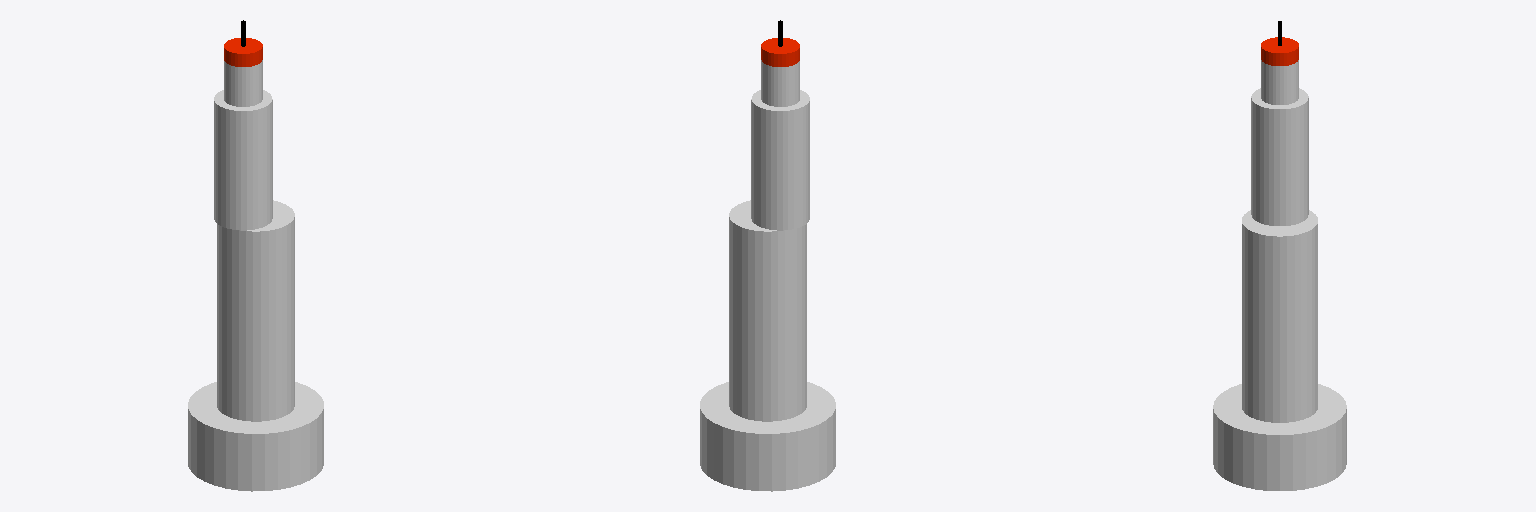
The robot description file, URDF, robot "motoman":
<?xml version="1.0" ?>
<robot name="motoman">

  <material name="red">
    <color rgba="0.8 0 0 1"/>
  </material>

  <material name="orange">
    <color rgba="1.0 0.3 0 1"/>
  </material>

  <material name="yellow">
    <color rgba="0.8 0.8 0 1"/>
  </material>

  <material name="green">
    <color rgba="0 0.8 0 1"/>
  </material>

  <material name="sky">
    <color rgba="0 0.8 0.8 1"/>
  </material>

  <material name="blue">
    <color rgba="0 0 0.8 1"/>
  </material>

  <material name="magenta">
    <color rgba="0.8 0 0.8 1"/>
  </material>

  <material name="white">
    <color rgba="1 1 1 1"/>
  </material>

  <material name="gray">
    <color rgba="0.9 0.9 0.9 1"/>
  </material>

  <material name="dark">
    <color rgba="0.3 0.3 0.3 1"/>
  </material>



  <link name="base_link">
    <visual>
      <geometry>
        <cylinder length="0.13" radius="0.14"/>
      </geometry>
      <origin xyz="0 0 0.065"/>
      <material name="gray"/>
    </visual>
    <collision>
      <geometry>
        <cylinder length="0.13" radius="0.14"/>
      </geometry>
      <origin xyz="0 0 0.065"/>
    </collision>
    <inertial>
      <mass value="19"/>
      <inertia ixx="0.112" ixy="0.0" ixz="0.0" iyy="0.112" iyz="0.0" izz="0.186"/>
    </inertial>
  </link>

  <link name="link_s">
    <visual>
      <geometry>
        <cylinder length="0.16" radius="0.08"/>
      </geometry>
      <origin xyz="0 0 0.08"/>
      <material name="gray"/>
    </visual>
    <collision>
      <geometry>
        <cylinder length="0.16" radius="0.08"/>
      </geometry>
      <origin xyz="0 0 0.08"/>
    </collision>
    <inertial>
      <mass value="2"/>
      <inertia ixx="0.00747" ixy="0.0" ixz="0.0" iyy="0.00747" iyz="0.0" izz="0.0064"/>
    </inertial>
  </link>

  <link name="link_l">
    <visual>
      <geometry>
        <cylinder length="0.27" radius="0.08"/>
      </geometry>
      <origin xyz="0 0 0.135"/>
      <material name="gray"/>
    </visual>
    <collision>
      <geometry>
        <cylinder length="0.27" radius="0.08"/>
      </geometry>
      <origin xyz="0 0 0.135"/>
    </collision>
    <inertial>
      <mass value="2"/>
      <inertia ixx="0.00154" ixy="0.0" ixz="0.0" iyy="0.00154" iyz="0.0" izz="0.0064"/>
    </inertial>
  </link>

  <link name="link_u">
    <visual>
      <geometry>
        <cylinder length="0.04" radius="0.06"/>
      </geometry>
      <origin xyz="-0.03 0 0.02"/>
      <material name="gray"/>
    </visual>
    <collision>
      <geometry>
        <cylinder length="0.04" radius="0.06"/>
      </geometry>
      <origin xyz="-0.03 0 0.02"/>
    </collision>
    <inertial>
      <mass value="2"/>
      <inertia ixx="0.00207" ixy="0.0" ixz="0.0" iyy="0.00207" iyz="0.0" izz="0.0036"/>
    </inertial>
  </link>

  <link name="link_r">
    <visual>
      <geometry>
        <cylinder length="0.23" radius="0.06"/>
      </geometry>
      <origin xyz="0 0 0.115"/>
      <material name="gray"/>
    </visual>
    <collision>
      <geometry>
        <cylinder length="0.23" radius="0.06"/>
      </geometry>
      <origin xyz="0 0 0.115"/>
    </collision>
    <inertial>
      <mass value="1"/>
      <inertia ixx="0.00531" ixy="0.0" ixz="0.0" iyy="0.00531" iyz="0.0" izz="0.0018"/>
    </inertial>
  </link>

  <link name="link_b">
    <visual>
      <geometry>
        <cylinder length="0.01" radius="0.04"/>
      </geometry>
      <origin xyz="0 0 0.005"/>
      <material name="gray"/>
    </visual>
    <collision>
      <geometry>
        <cylinder length="0.01" radius="0.04"/>
      </geometry>
      <origin xyz="0 0 0.005"/>
    </collision>
    <inertial>
      <mass value="1"/>
      <inertia ixx="0.000408" ixy="0.0" ixz="0.0" iyy="0.000408" iyz="0.0" izz="0.0008"/>
    </inertial>
  </link>

  <link name="link_t">
    <visual>
      <geometry>
        <cylinder length="0.08" radius="0.04"/>
      </geometry>
      <origin xyz="0 0 0.04"/>
      <material name="gray"/>
    </visual>
    <collision>
      <geometry>
        <cylinder length="0.08" radius="0.04"/>
      </geometry>
      <origin xyz="0 0 0.04"/>
    </collision>
    <inertial>
      <mass value="0.5"/>
      <inertia ixx="0.000467" ixy="0.0" ixz="0.0" iyy="0.000467" iyz="0.0" izz="0.0004"/>
    </inertial>
  </link>

  <joint name="joint_s" type="continuous">
    <parent link="base_link"/>
    <child link="link_s"/>
    <origin xyz="0 0 0.13"/>
    <axis xyz="0 0 1" />
    <dynamics damping="10.0" friction="0.0"/>
  </joint>

  <joint name="joint_l" type="continuous">
    <parent link="link_s"/>
    <child link="link_l"/>
    <origin xyz="0 0 0.16"/>
    <axis xyz="0 1 0" />
    <dynamics damping="10.0" friction="0.0"/>
  </joint>

  <joint name="joint_u" type="continuous">
    <parent link="link_l"/>
    <child link="link_u"/>
    <origin xyz="0 0 0.27"/>
    <axis xyz="0 1 0" />
    <dynamics damping="10.0" friction="0.0"/>
  </joint>

  <joint name="joint_r" type="continuous">
    <parent link="link_u"/>
    <child link="link_r"/>
    <origin xyz="-0.03 0 0.04"/>
    <axis xyz="0 0 1" />
    <dynamics damping="10.0" friction="0.0"/>
  </joint>

  <joint name="joint_b" type="continuous">
    <parent link="link_r"/>
    <child link="link_b"/>
    <origin xyz="0 0 0.23"/>
    <axis xyz="0 1 0" />
    <dynamics damping="10.0" friction="0.0"/>
  </joint>

  <joint name="joint_t" type="continuous">
    <parent link="link_b"/>
    <child link="link_t"/>
    <origin xyz="0 0 0.01"/>
    <axis xyz="0 0 1" />
    <dynamics damping="10.0" friction="0.0"/>
  </joint>


<!-- Tool -->
  <material name="FT_sensor">
    <color rgba="1 0.2 0 1"/>
  </material>

    <material name="peg_color">
    <color rgba="0 0 0 1"/>
  </material>

  <link name="Force_sensor">
    <visual>
      <geometry>
        <cylinder length="0.03" radius="0.04"/>
      </geometry>
      <origin xyz="0 0 0.015"/>
      <material name="FT_sensor"/>

    </visual>
    <collision>
      <geometry>
        <cylinder length="0.03" radius="0.04"/>
      </geometry>
      <origin xyz="0 0 0.015"/>
    </collision>
    <inertial>
      <mass value="0.01"/>
      <inertia ixx="0.00000840" ixy="0.0" ixz="0.0" iyy="0.00000840" iyz="0.0" izz="0.000000125"/>
    </inertial>
  </link>

  <link name="peg">
    <visual>
      <geometry>
     <cylinder length="0.1" radius="0.00495"/>
      </geometry>
      <origin xyz="0 0 0.004975"/>
      <material name="peg_color"/>
    </visual>
    <collision>
      <geometry>
         <cylinder length="0.1" radius="0.00495"/>
      </geometry>
      <origin xyz="0 0 0.003975"/>
    </collision>
    <inertial>
      <mass value="0.01"/>
      <inertia ixx="0.000227" ixy="0.0" ixz="0.0" iyy="0.000227" iyz="0.0" izz="0.000417"/>
    </inertial>
  </link>

  <joint name="grip" type="fixed">
    <parent link="link_t"/>
    <child link="Force_sensor"/>
    <origin xyz="0 0 0.08"/>
  </joint>

  <joint name="joint_spatula" type="fixed">
    <parent link="Force_sensor"/>
    <child link="peg"/>
    <origin xyz="0 0 0.03"/>
  </joint>

</robot>

--- What the picture shows (computed from the rendered views, not written in the file) ---
The picture shows the robot from 3 angles, left to right: view 1: azimuth 30°, elevation 25°; view 2: azimuth 150°, elevation 25°; view 3: azimuth 270°, elevation 25°; orthographic projection.
Model motoman with 9 links and 8 joints (6 continuous, 2 fixed), rooted at base_link, posed every joint at zero.
Links seen in each view (by area): view 1: base_link, link_l, link_r, link_s, link_t, link_u, Force_sensor; view 2: base_link, link_l, link_r, link_s, link_t, link_u, Force_sensor; view 3: base_link, link_l, link_r, link_s, link_t, link_u, Force_sensor.
Boxes of the visible links, bbox=[...] form: base_link: bbox=[188, 382, 323, 491]; link_l: bbox=[217, 200, 294, 350]; link_r: bbox=[214, 90, 272, 212]; link_s: bbox=[217, 337, 294, 421]; link_t: bbox=[224, 60, 262, 102]; link_u: bbox=[214, 201, 272, 230]; Force_sensor: bbox=[224, 38, 262, 66]; base_link: bbox=[700, 382, 835, 491]; link_l: bbox=[729, 200, 806, 350]; link_r: bbox=[751, 90, 809, 212]; link_s: bbox=[729, 337, 806, 421]; link_t: bbox=[761, 60, 799, 102]; link_u: bbox=[751, 201, 809, 230]; Force_sensor: bbox=[761, 38, 799, 66]; base_link: bbox=[1213, 384, 1346, 490]; link_l: bbox=[1242, 210, 1317, 353]; link_r: bbox=[1251, 88, 1308, 208]; link_s: bbox=[1242, 341, 1317, 422]; link_t: bbox=[1261, 60, 1298, 100]; link_u: bbox=[1251, 198, 1308, 225]; Force_sensor: bbox=[1261, 37, 1298, 65].
Bounding box of the posed robot: 0.28 × 0.28 × 1 m (x, y, z).
Geometry: primitives only (box / cylinder / sphere), no mesh files.